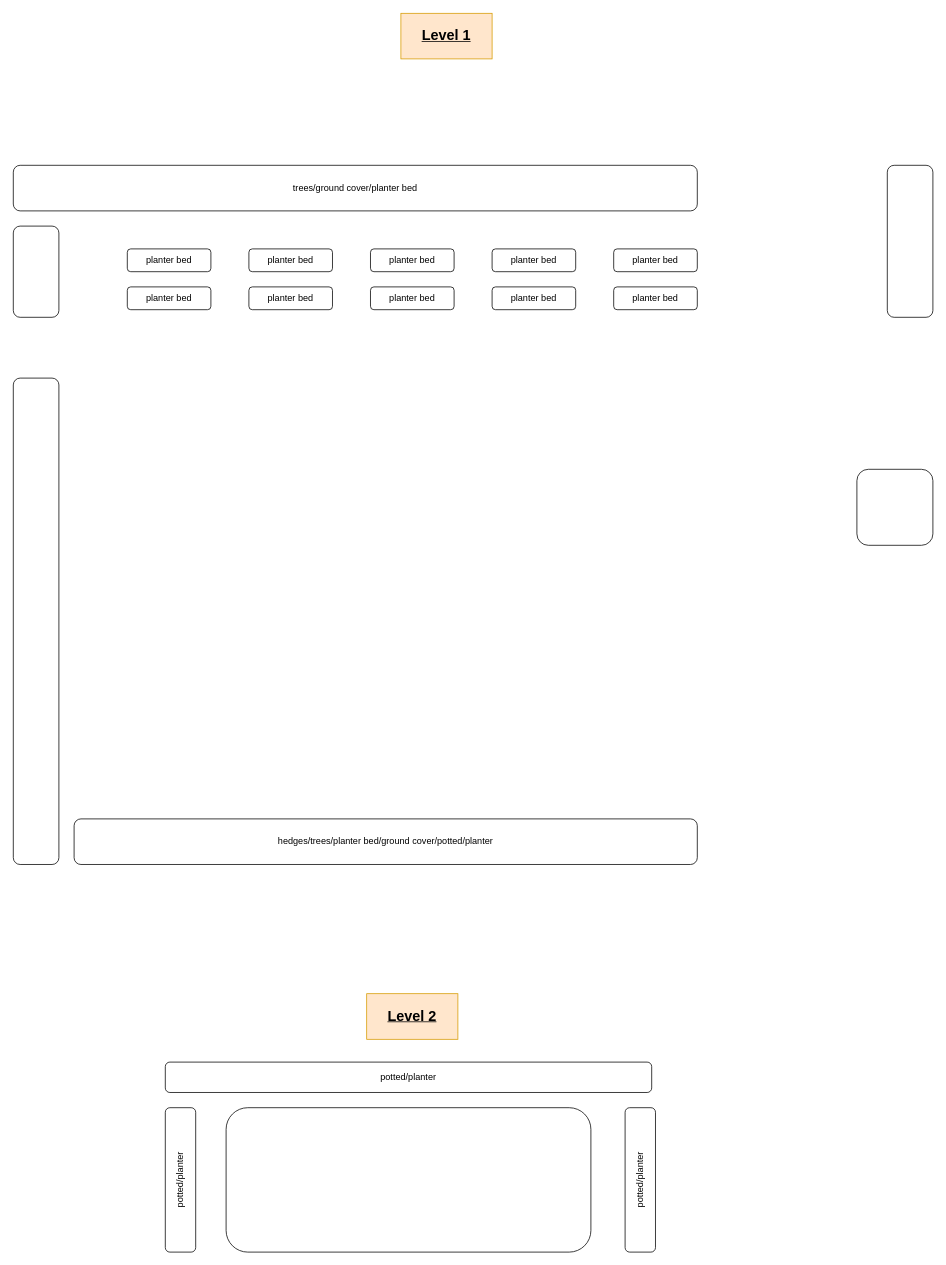
This 946x1265 diagram has some shape labels left out. Each missing label, with the centre of its shape:
"tree/planter bed" belongs at point 894,507.
"trees/hedges/ground cover/potted/planter" belongs at point 36,620.
"Trellis/Pergola" belongs at point 408,1179.
"vege pod/trees/potted" belongs at point 36,271.
